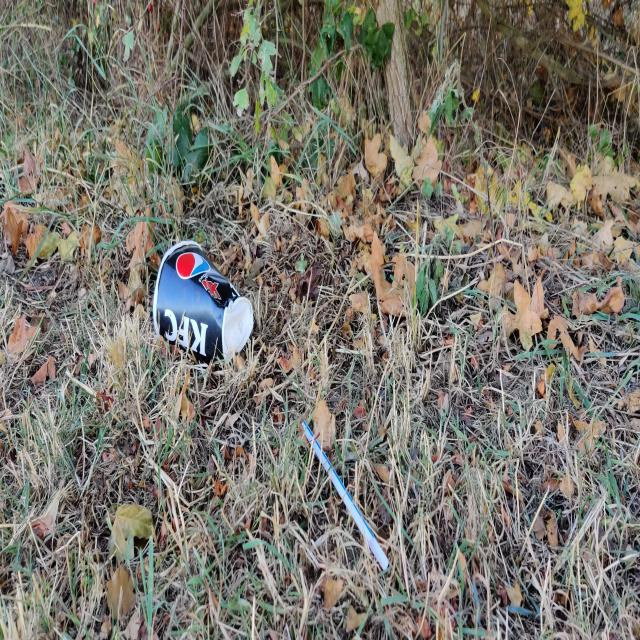litter: (301, 419, 393, 579), (152, 241, 253, 366)
